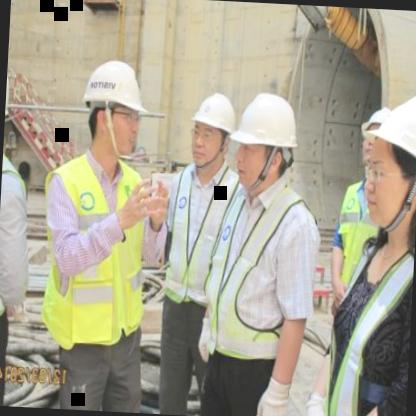helmet: (350, 83, 416, 239), (228, 85, 302, 196), (78, 52, 146, 161), (184, 87, 244, 172), (355, 99, 391, 167)
